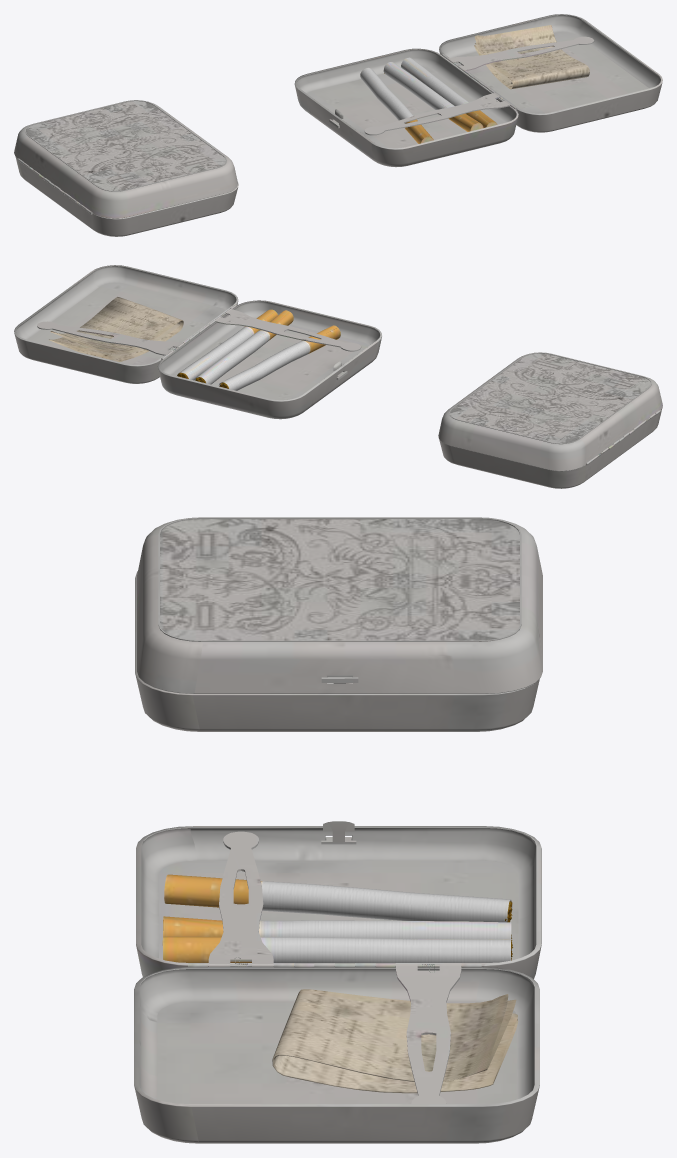
File: ph_cigarette_case.glb
3 renders of one model, top to bottom at view 1: azimuth 30°, elevation 25°; view 2: azimuth 150°, elevation 25°; view 3: azimuth 270°, elevation 25°, orthographic. The views are drawn at different scales.
Visible parts, largest first — view 1: cigarette_case_cover_b; view 2: cigarette_case_cover_b; view 3: cigarette_case_cover_b.
Part boxes in pixels (x1=…): cigarette_case_cover_b: x1=14, y1=14, x2=662, y2=236; cigarette_case_cover_b: x1=14, y1=265, x2=662, y2=488; cigarette_case_cover_b: x1=134, y1=517, x2=542, y2=1143.
Bounding box in the file's own units: 0.3233 × 0.0245 × 0.1007.
1 material, 1 textured.
